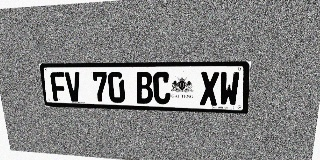0: (107, 72, 125, 103)
7: (91, 72, 109, 103)
B: (135, 72, 153, 104)
C: (153, 72, 171, 104)
F: (50, 72, 67, 101)
V: (65, 72, 82, 102)
W: (219, 72, 240, 106)
X: (200, 72, 219, 106)
